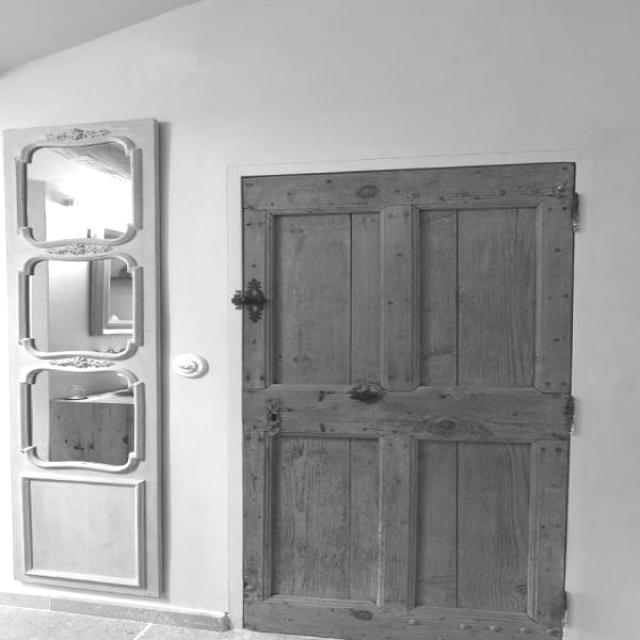door: (237, 160, 576, 638)
